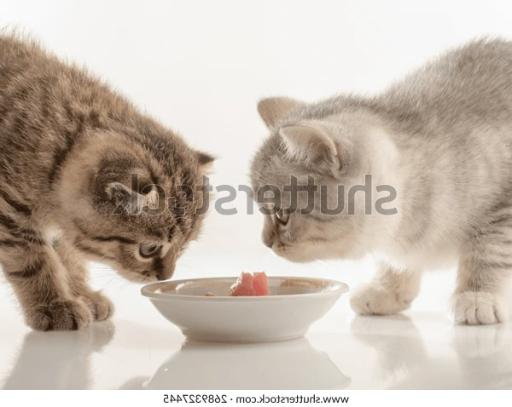cat_eating: (1, 35, 348, 343), (248, 38, 512, 324)
